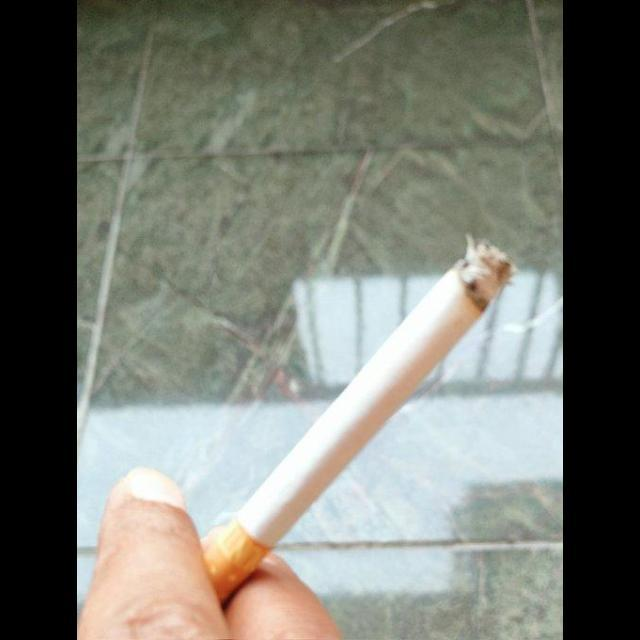rokok: (200, 234, 518, 596)
